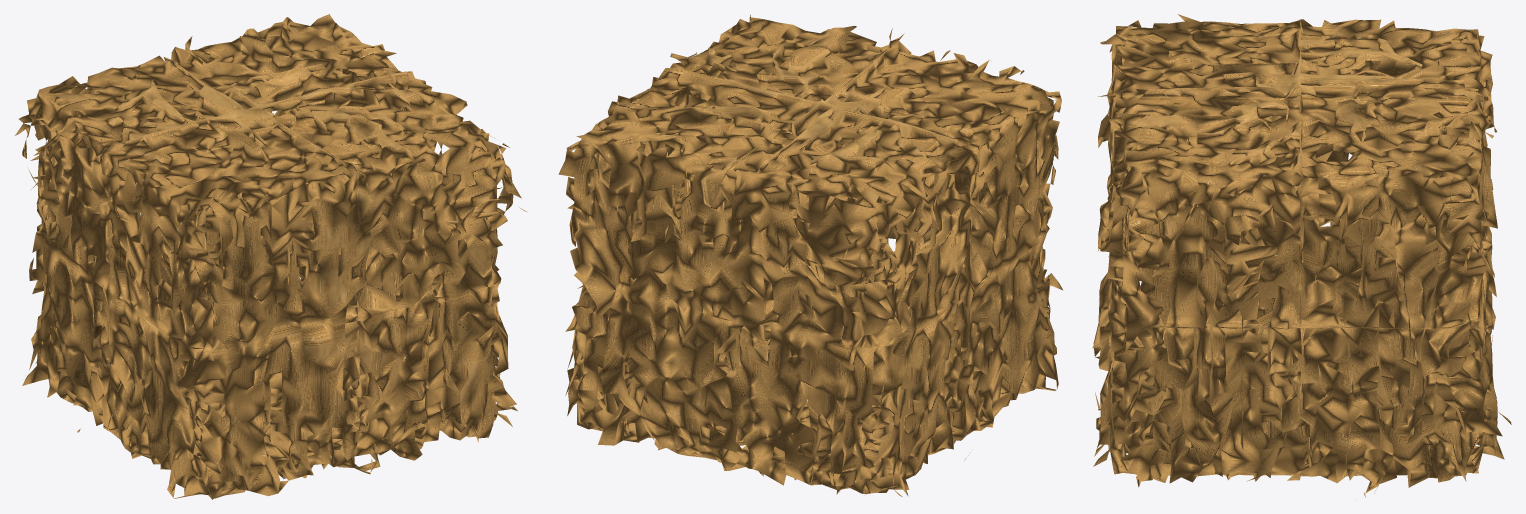
The model's file is hay-bale.glb.
3 renders of one model, left to right at view 1: azimuth 30°, elevation 25°; view 2: azimuth 150°, elevation 25°; view 3: azimuth 270°, elevation 25°, orthographic. The views are drawn at different scales.
Size of the model in its own units: 1.88 by 1.5 by 1.77.
1 material, 1 textured.
